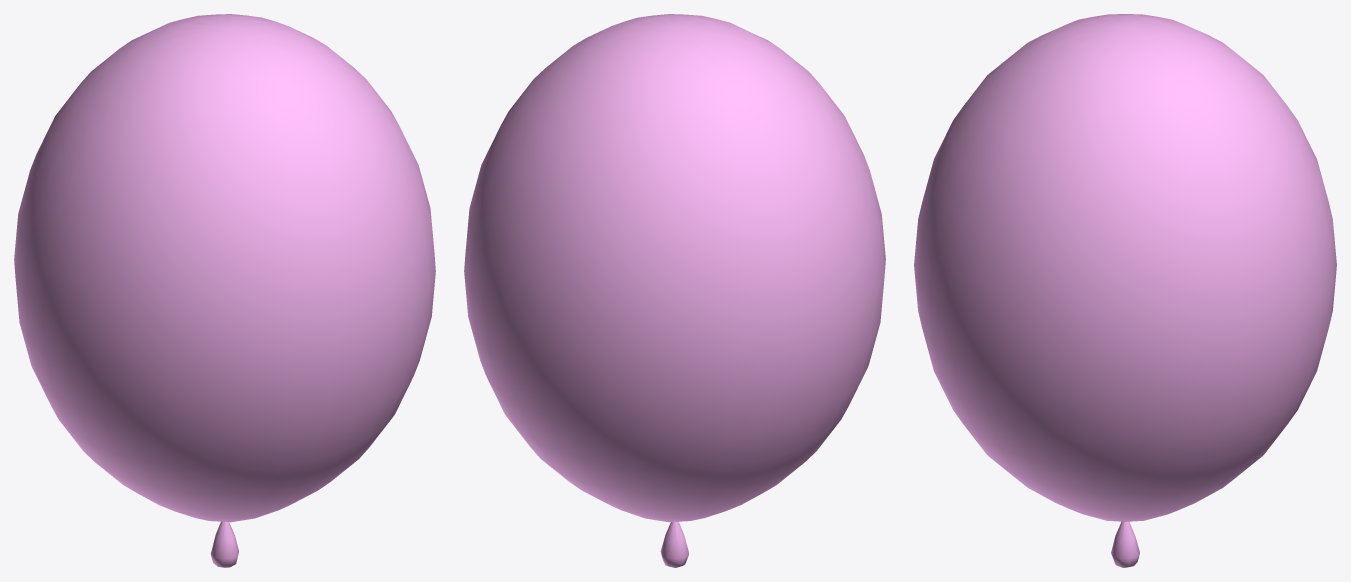
The model's file is balloon.glb.
3 views of the same model, side by side, from view 1: azimuth 30°, elevation 25°; view 2: azimuth 150°, elevation 25°; view 3: azimuth 270°, elevation 25° (orthographic).
Visible parts, largest first — view 1: balloon; view 2: balloon; view 3: balloon.
Part boxes in pixels (bbox=[...]): balloon: bbox=[14, 14, 435, 567]; balloon: bbox=[464, 14, 885, 567]; balloon: bbox=[914, 14, 1336, 567].
Bounding box in the file's own units: 15.86 × 22.35 × 15.86.
